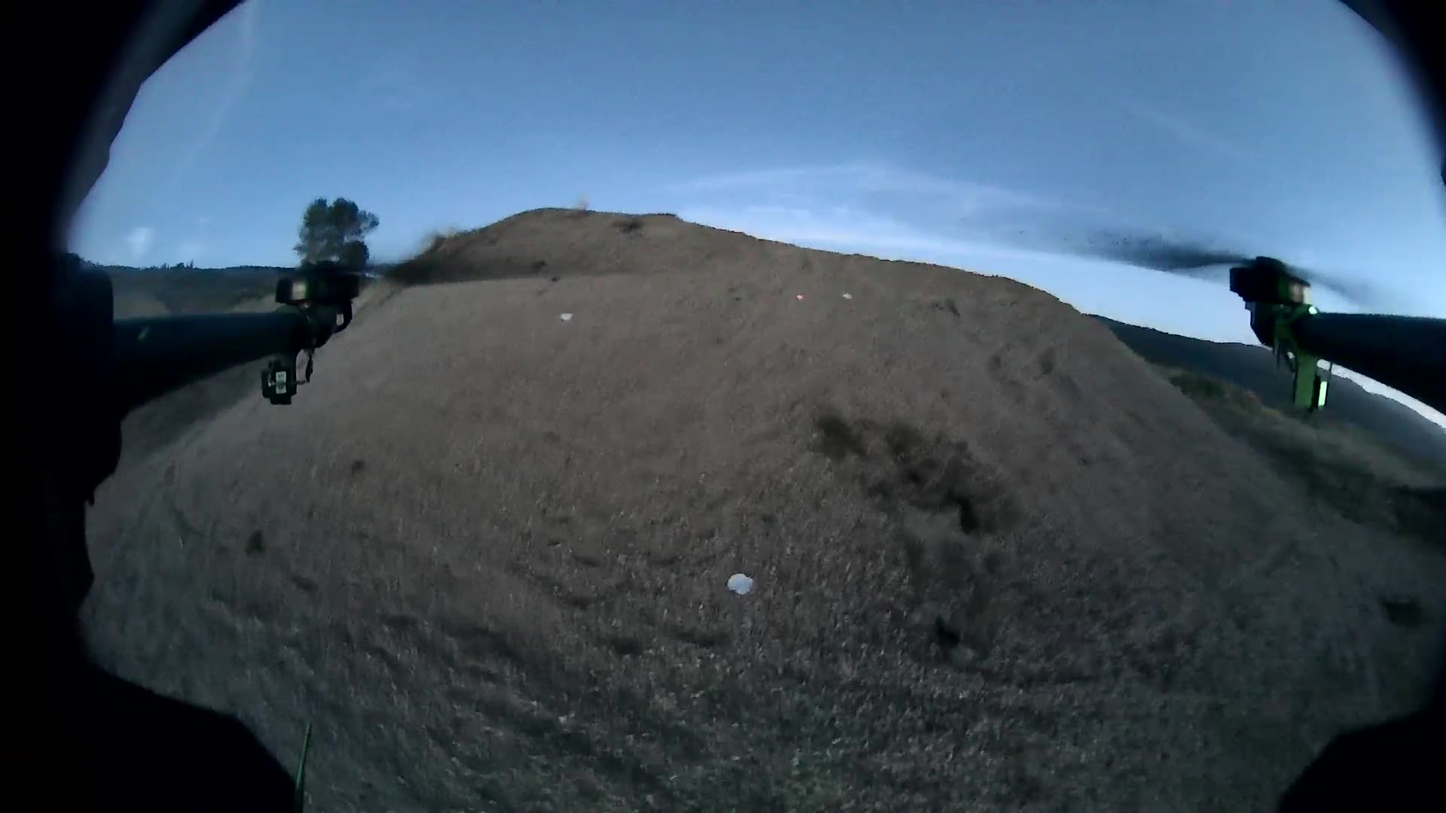Target: (724, 570, 755, 596)
